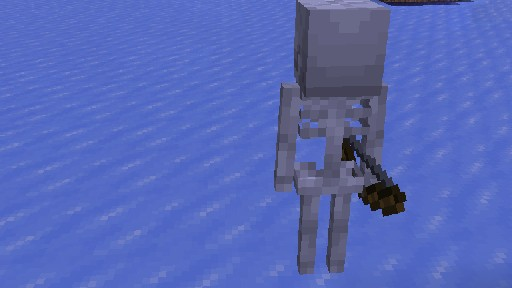skeleton: (273, 0, 407, 274)
